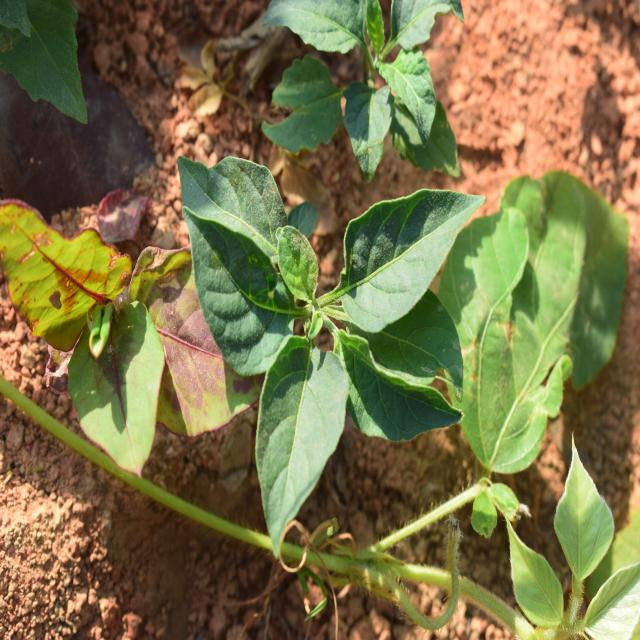Black_nightshade: (216, 162, 448, 499), (242, 0, 458, 167)
